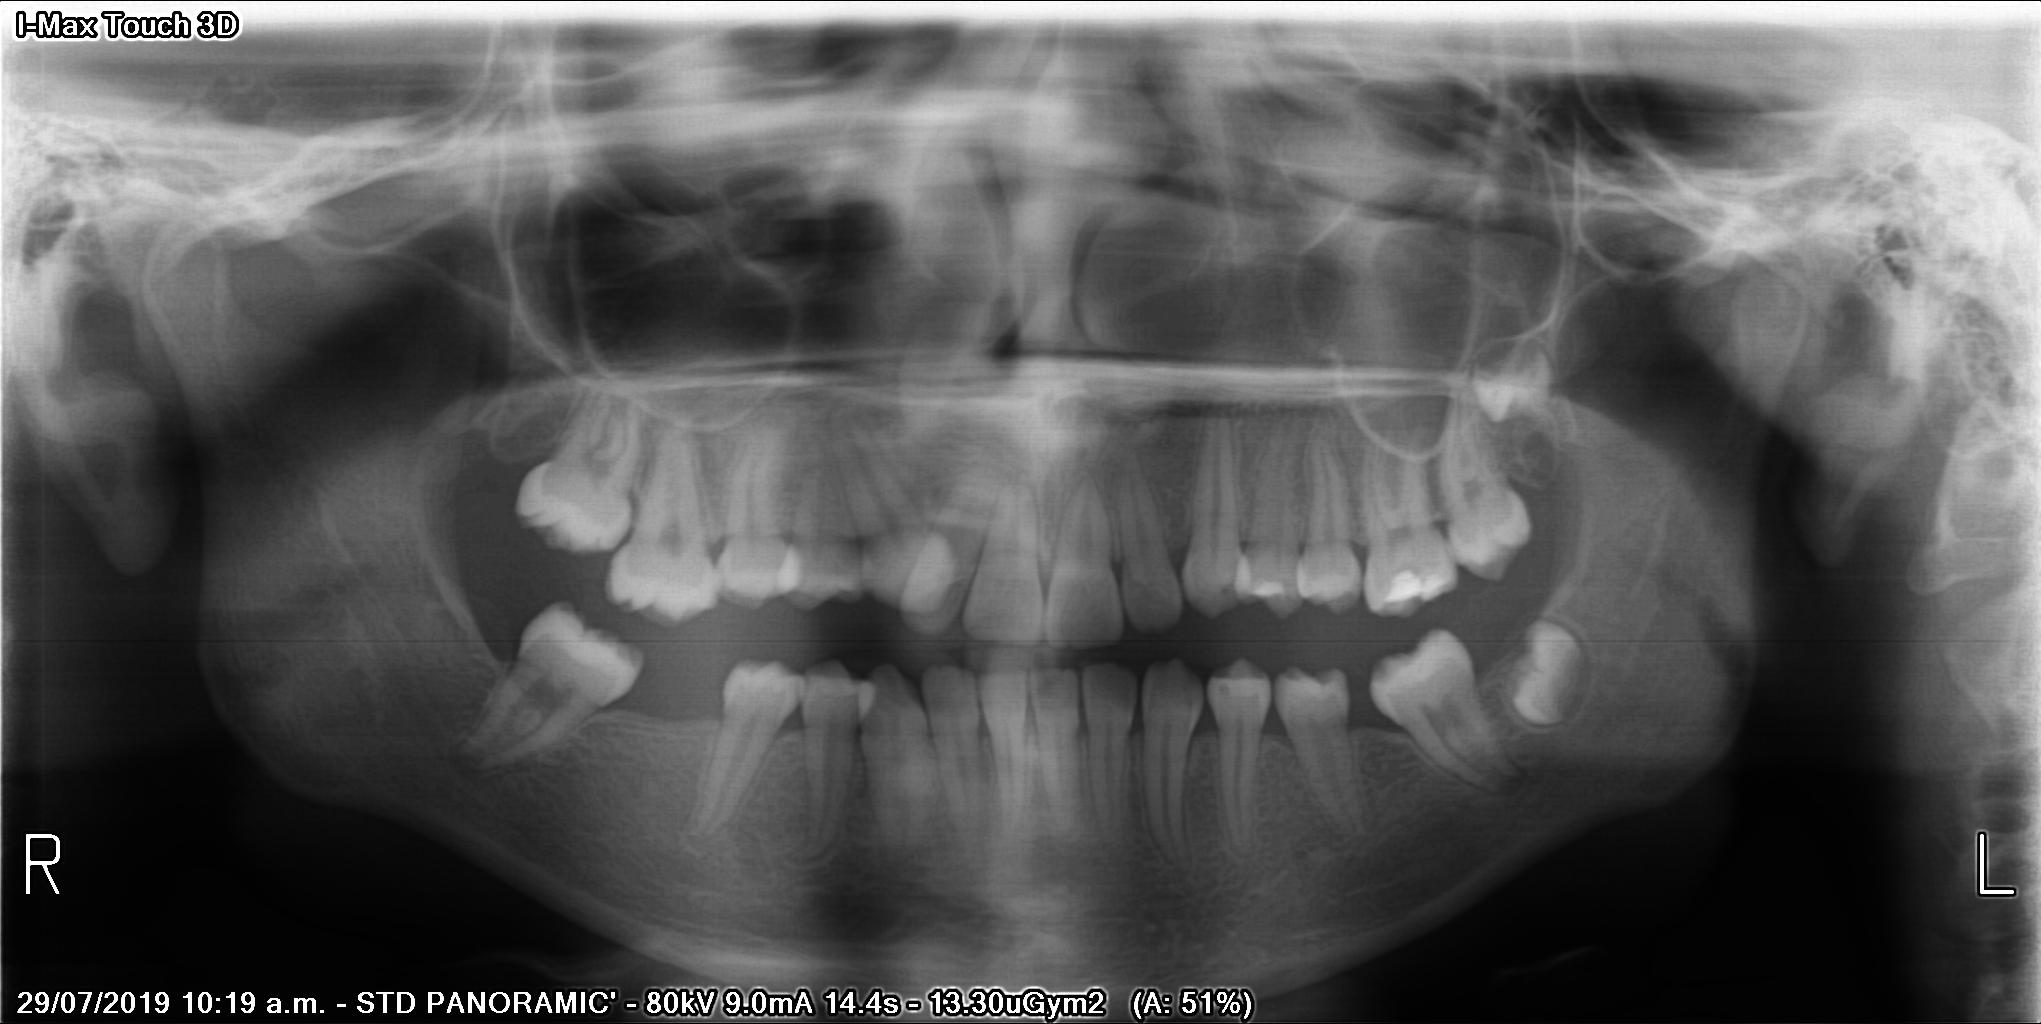Çürük: (1385, 567, 1456, 619)
Çürük Bölgesi: (1365, 660, 1399, 695)
